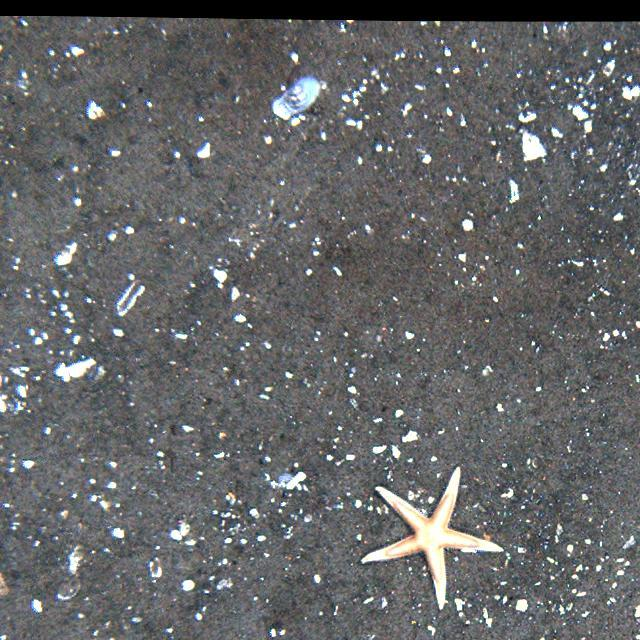whelk: (268, 75, 322, 126)
